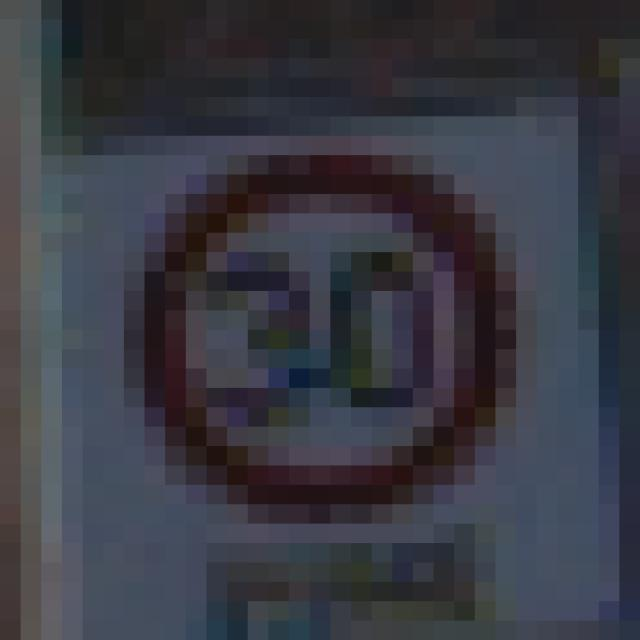Speed Limit -30-: (93, 107, 526, 533)
